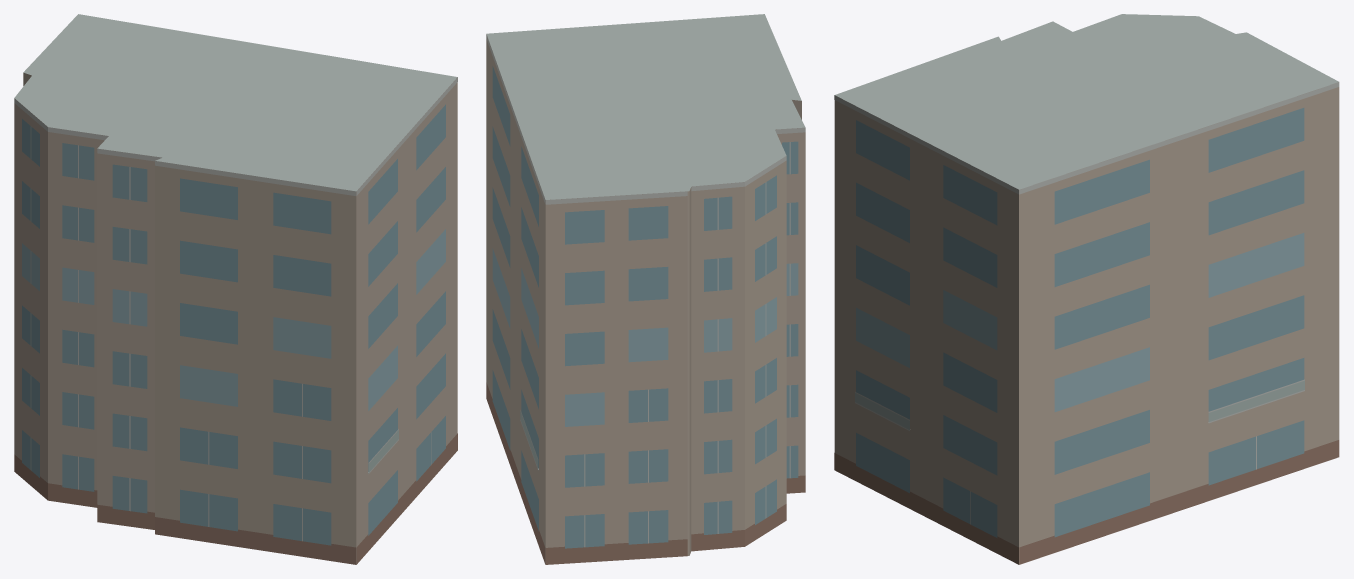
Rendered from survey-upis-32743052.glb.
The picture shows the model from 3 angles, left to right: view 1: azimuth 30°, elevation 25°; view 2: azimuth 150°, elevation 25°; view 3: azimuth 270°, elevation 25°; orthographic projection. The views are drawn at different scales.
Visible parts, largest first — view 1: survey-upis-32743052.tmp; view 2: survey-upis-32743052.tmp; view 3: survey-upis-32743052.tmp.
Boxes of the visible parts, <box> form: survey-upis-32743052.tmp: <box>14,14,457,564</box>; survey-upis-32743052.tmp: <box>486,14,805,564</box>; survey-upis-32743052.tmp: <box>834,14,1339,564</box>.
Bounding box in the file's own units: 18.89 × 18.8 × 22.94.
